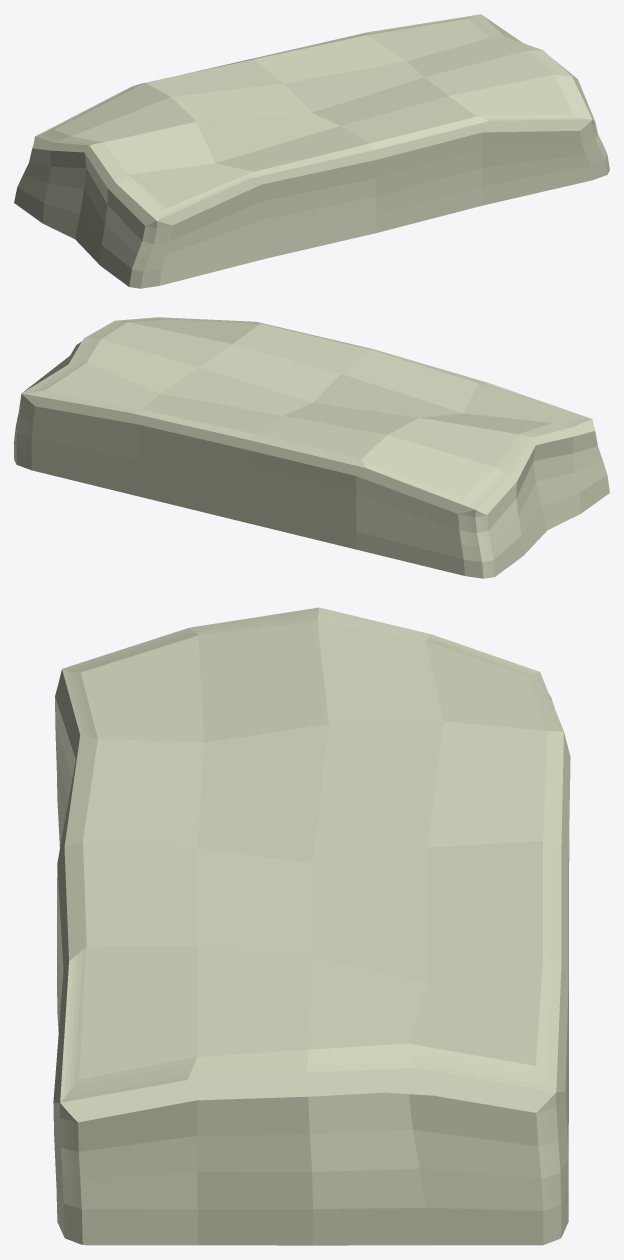
File: pillow 1.glb
3 views of the same model, one above another, from view 1: azimuth 30°, elevation 25°; view 2: azimuth 150°, elevation 25°; view 3: azimuth 270°, elevation 25° (orthographic). The views are drawn at different scales.
Parts seen in each view (by area): view 1: Pillow; view 2: Pillow; view 3: Pillow.
Part boxes in pixels (bbox=[...]): Pillow: bbox=[14, 14, 609, 288]; Pillow: bbox=[14, 317, 609, 578]; Pillow: bbox=[53, 607, 570, 1245].
Size of the model in its own units: 1 by 0.1868 by 0.4656.
